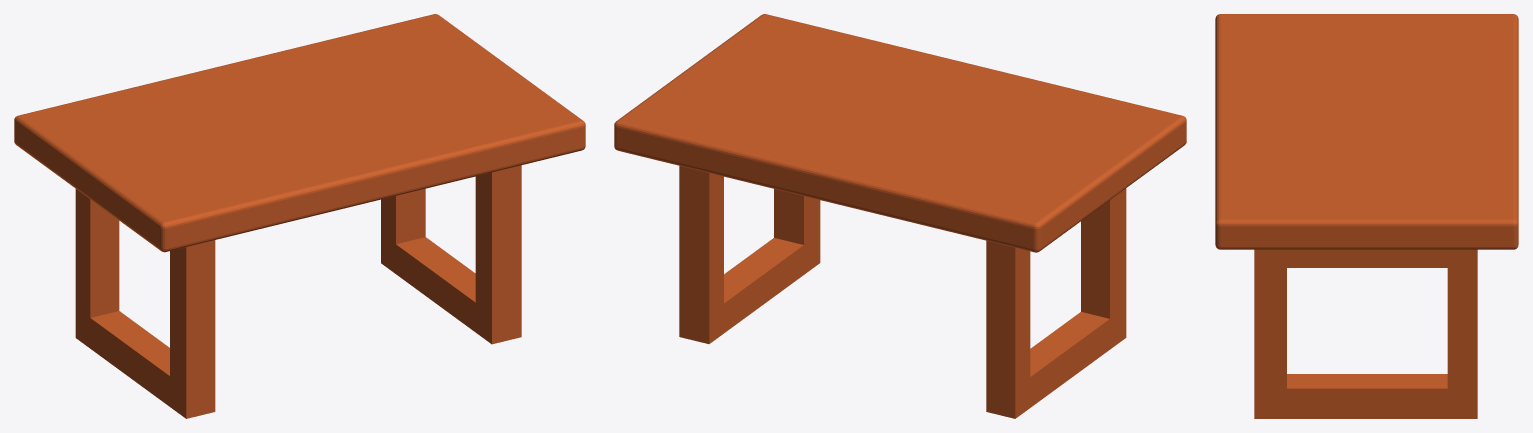
The model's file is table.obj.
3 renders of one model, left to right at view 1: azimuth 30°, elevation 25°; view 2: azimuth 150°, elevation 25°; view 3: azimuth 270°, elevation 25°, orthographic.
Parts seen in each view (by area): view 1: Cube; view 2: Cube; view 3: Cube.
Part boxes in pixels (x1=…): Cube: x1=14, y1=14, x2=585, y2=418; Cube: x1=614, y1=14, x2=1186, y2=418; Cube: x1=1215, y1=14, x2=1518, y2=418.
Size of the model in its own units: 0.8996 by 0.4416 by 0.5507.
